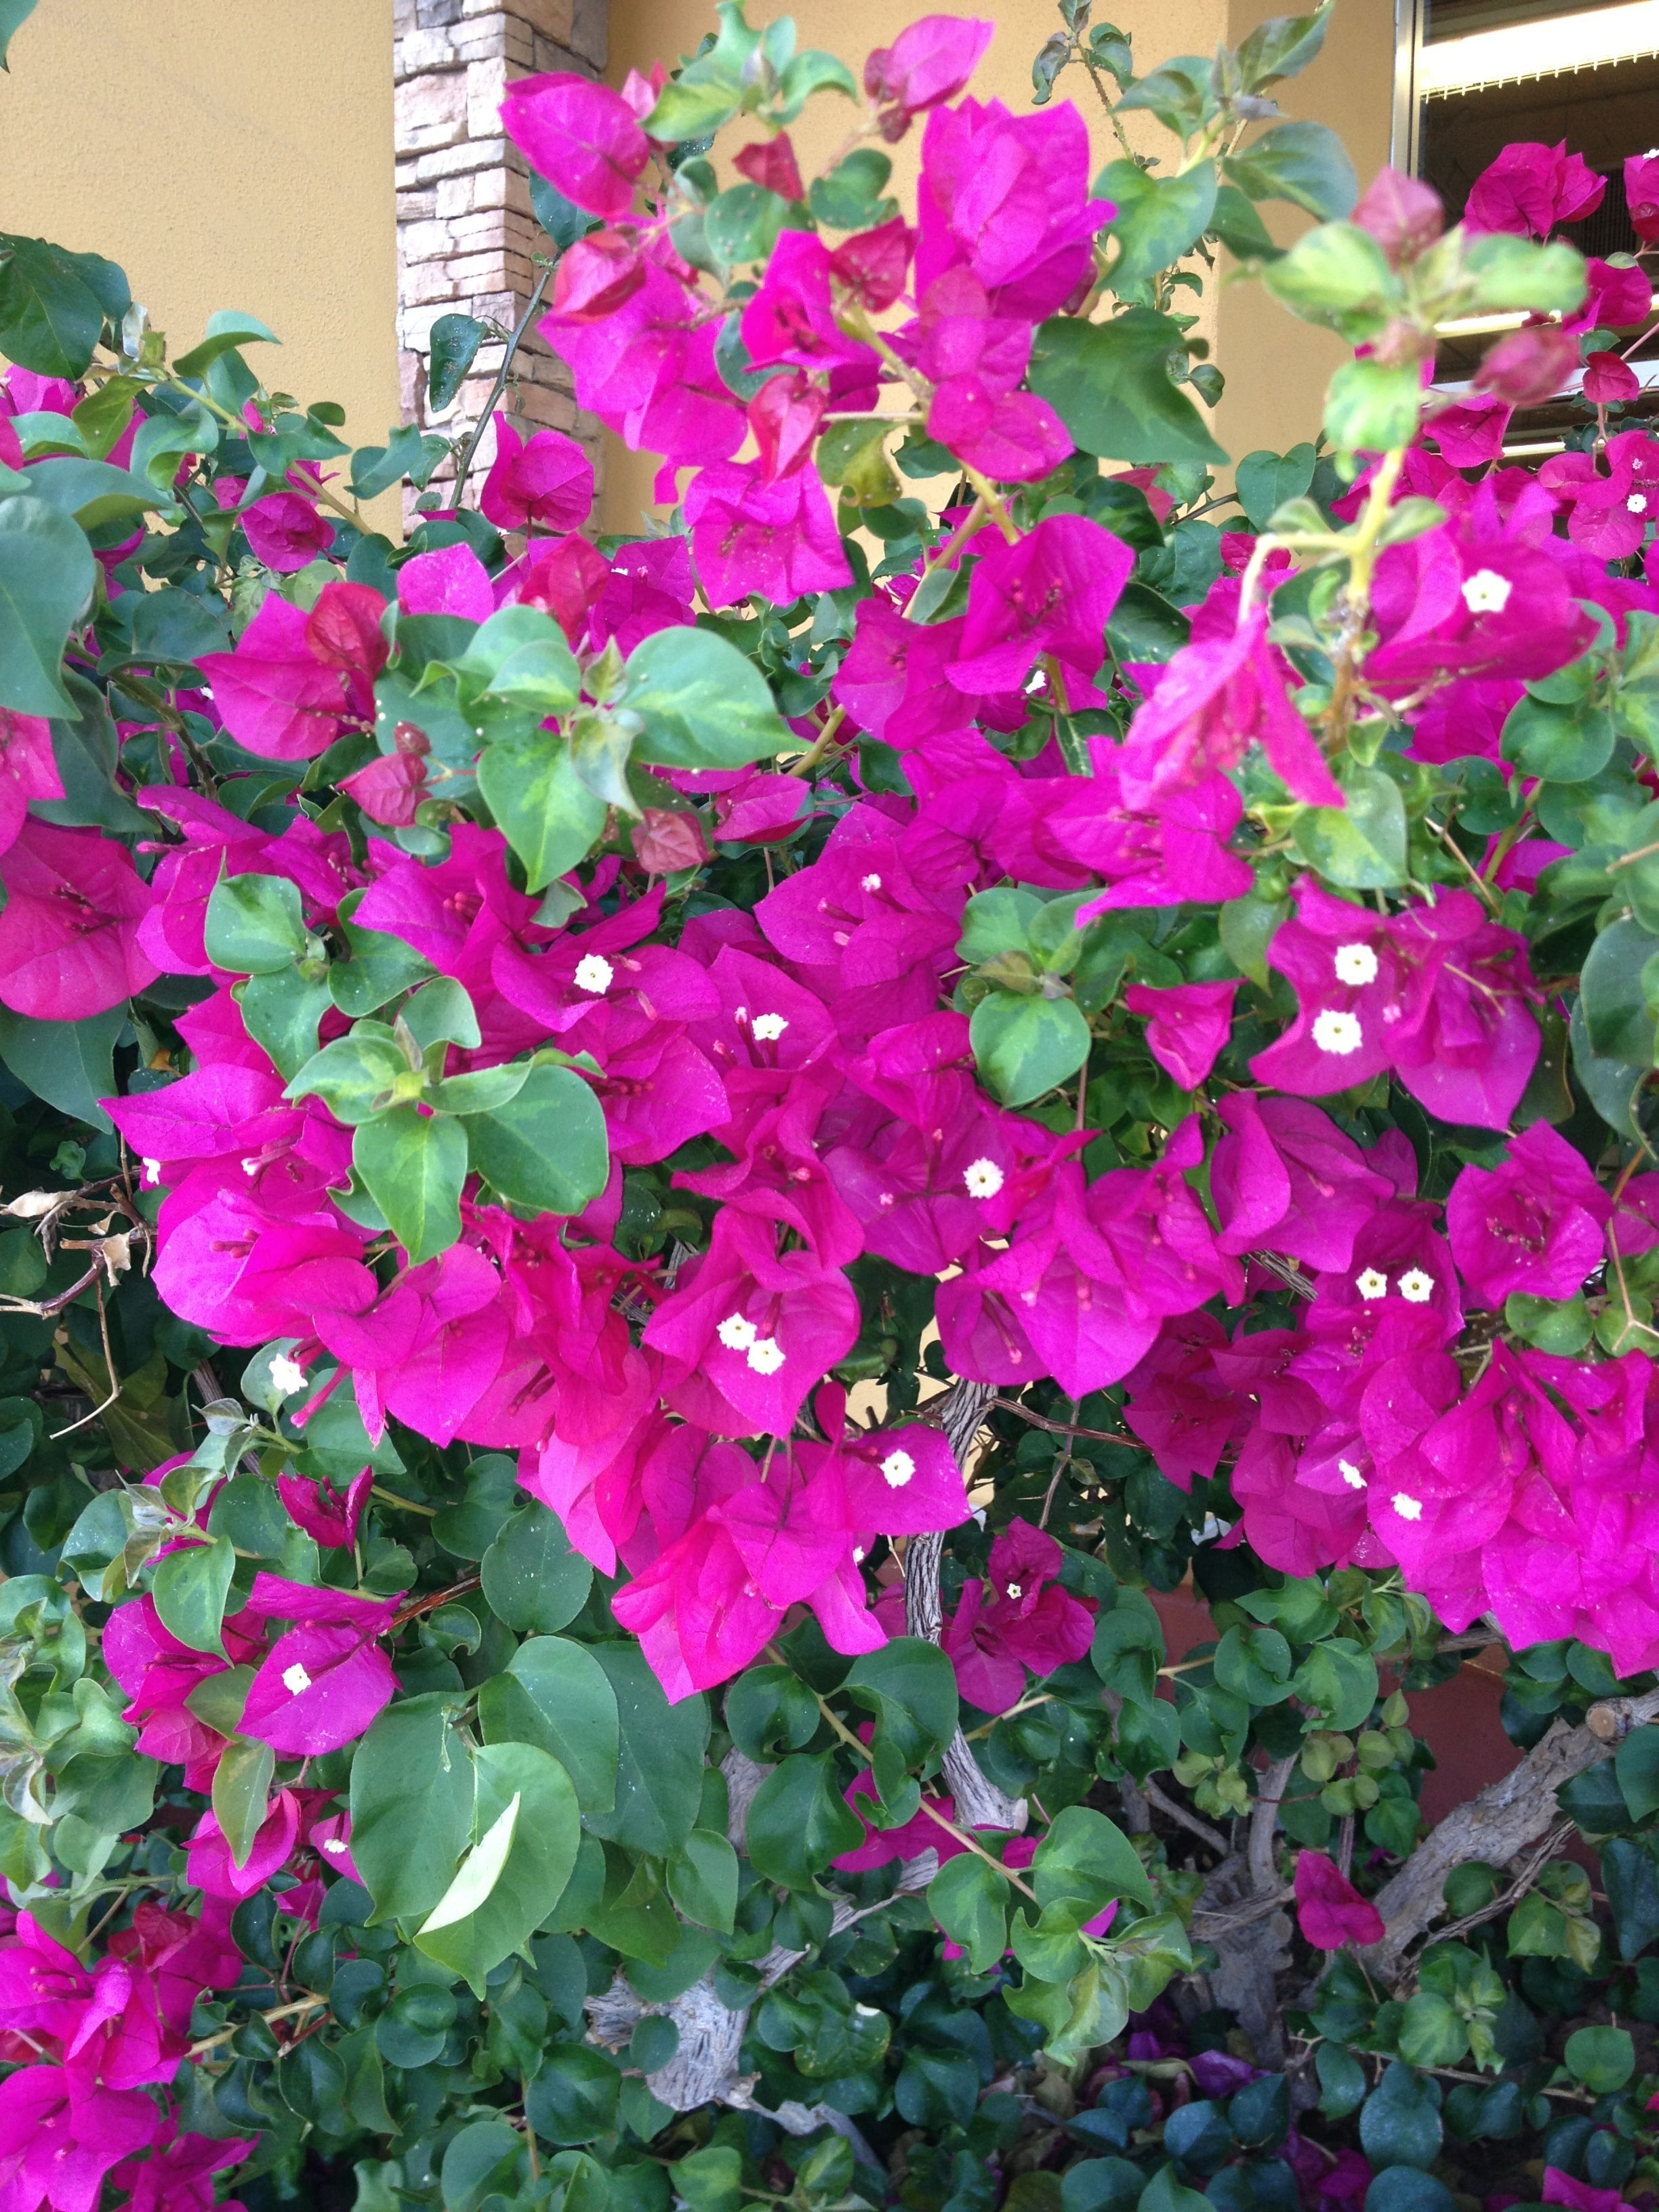bougainvillea: (1276, 880, 1474, 1090), (1354, 491, 1586, 671), (115, 1064, 354, 1237), (655, 1223, 857, 1425), (765, 822, 981, 972), (0, 834, 171, 1014), (938, 1519, 1096, 1705), (497, 902, 676, 1059), (244, 1575, 396, 1752), (1438, 1137, 1603, 1298), (349, 833, 530, 965), (859, 1111, 1012, 1264), (685, 953, 843, 1097), (911, 327, 1066, 474), (218, 608, 380, 745), (690, 458, 838, 601), (958, 543, 1101, 688), (1323, 1224, 1460, 1360), (829, 1418, 979, 1531), (1567, 437, 1659, 570)
